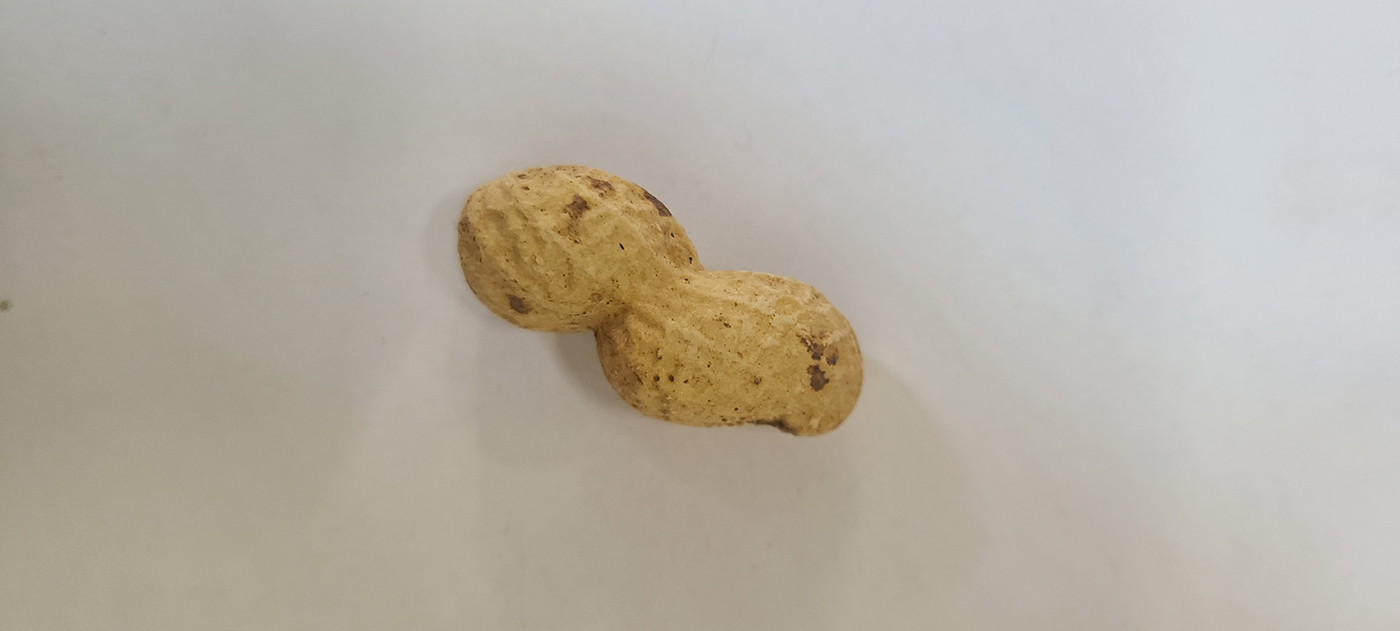h: (455, 163, 865, 437)
